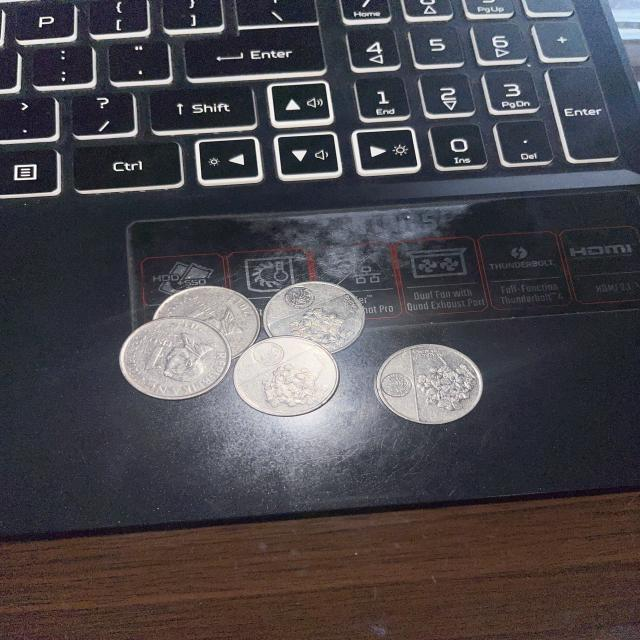1_New_Back: (416, 348, 480, 420), (288, 302, 364, 351), (260, 362, 334, 412)
1_Old_Front: (138, 330, 182, 375)
